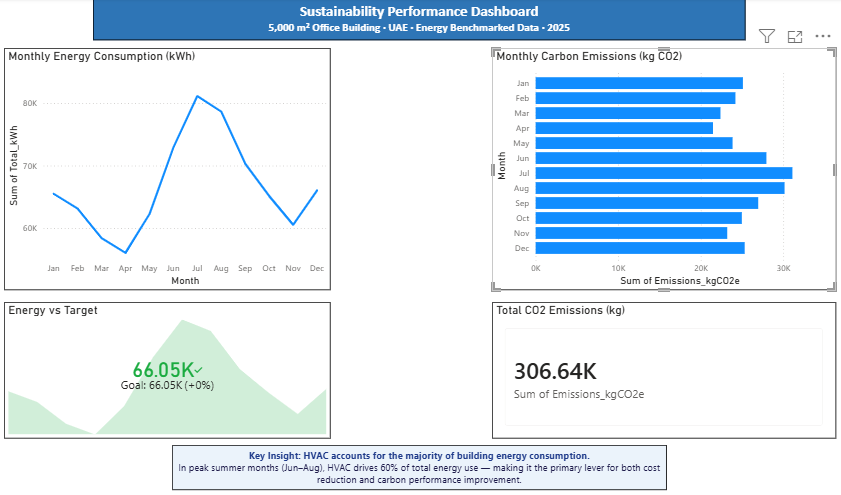

The page's visual inventory and layout, read from the dashboard file:
{"tool":"powerbi","page":{"name":"Sustainability Performance Dashboard","canvas":[1280,720],"ordinal":0},"visuals":[{"type":"actionButton","box":[0,0,100,40],"z":0},{"type":"lineChart","title":"Monthly Energy Consumption (kWh)","fields":{"Category":["energy_data.Month"],"Y":["Sum(energy_data.Total_kWh)"]},"box":[50.5,71.7,576.5,322.8],"z":1000},{"type":"clusteredBarChart","title":"Monthly Carbon Emissions (kg CO2)","fields":{"Category":["energy_data.Month"],"Y":["Sum(energy_data.Emissions_kgCO2e)"]},"box":[660.2,71.7,571.2,322.8],"z":2000},{"type":"textbox","box":[288.6,635.7,702.9,64.3],"z":4000},{"type":"textbox","box":[175.7,0,927.1,60],"z":5000},{"type":"kpi","title":"Energy vs Target","fields":{"Goal":["Avg(energy_data.Total_kWh)"],"Indicator":["Avg(energy_data.Total_kWh)"],"TrendLine":["energy_data.Month"]},"box":[338.7,406.5,607.1,207.2],"z":6000}]}

Visuals, with their boxes on the page's 1280x720 design canvas (x1, y1, x2, y2). These are canvas units, not pixel positions in the 841x495 screenshot, which may show the page scaled, cropped or inside an application window:
actionButton: bbox=[0, 0, 100, 40]
"Monthly Energy Consumption (kWh)" lineChart: bbox=[50, 72, 627, 394]
"Monthly Carbon Emissions (kg CO2)" clusteredBarChart: bbox=[660, 72, 1231, 394]
textbox: bbox=[289, 636, 992, 700]
textbox: bbox=[176, 0, 1103, 60]
"Energy vs Target" kpi: bbox=[339, 406, 946, 614]
